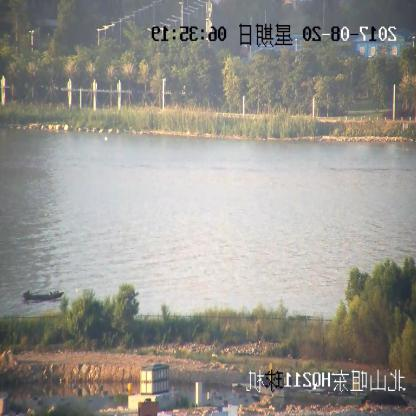Fishing Boat: (21, 287, 63, 303)
